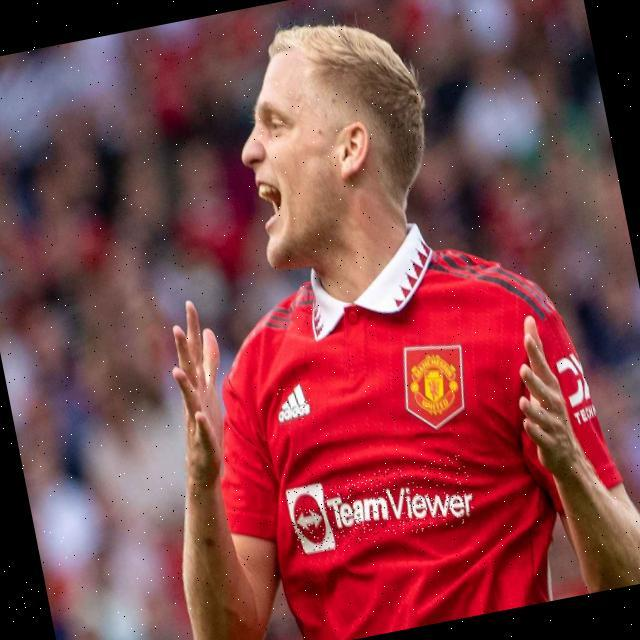Adidas: (273, 381, 315, 425)
TeamViewer: (286, 454, 478, 557)
